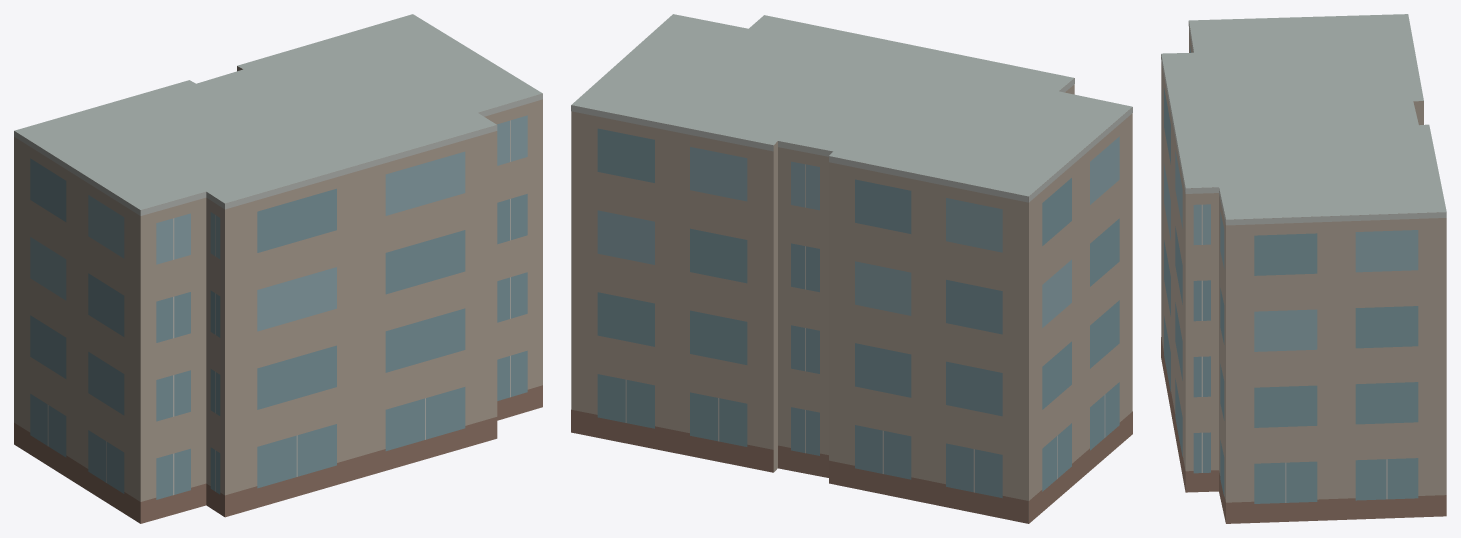
Rendered from survey-upis-32757693.glb.
3 views of the same model, side by side, from view 1: azimuth 30°, elevation 25°; view 2: azimuth 150°, elevation 25°; view 3: azimuth 270°, elevation 25° (orthographic). The views are drawn at different scales.
Visible parts, largest first — view 1: survey-upis-32757693.tmp; view 2: survey-upis-32757693.tmp; view 3: survey-upis-32757693.tmp.
Boxes of the visible parts, x1=… form: survey-upis-32757693.tmp: x1=14, y1=14, x2=542, y2=523; survey-upis-32757693.tmp: x1=571, y1=14, x2=1132, y2=523; survey-upis-32757693.tmp: x1=1161, y1=14, x2=1446, y2=523.
Bounding box in the file's own units: 18.72 × 12.9 × 10.99.
